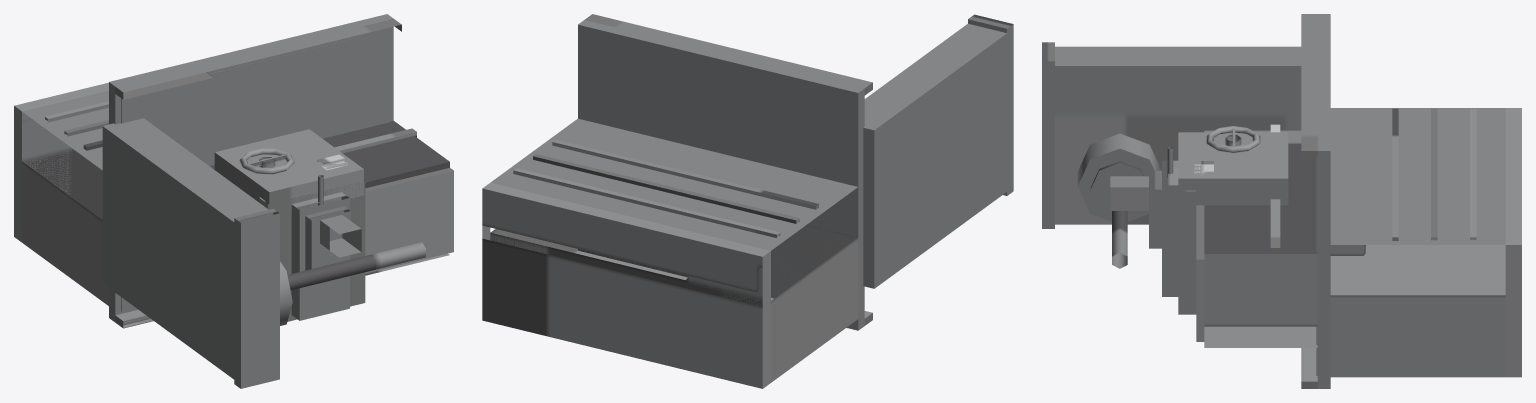
3 renders of one model, left to right at view 1: azimuth 30°, elevation 25°; view 2: azimuth 150°, elevation 25°; view 3: azimuth 270°, elevation 25°, orthographic.
Bounding box in the file's own units: 1.04 × 0.81 × 1.48.
